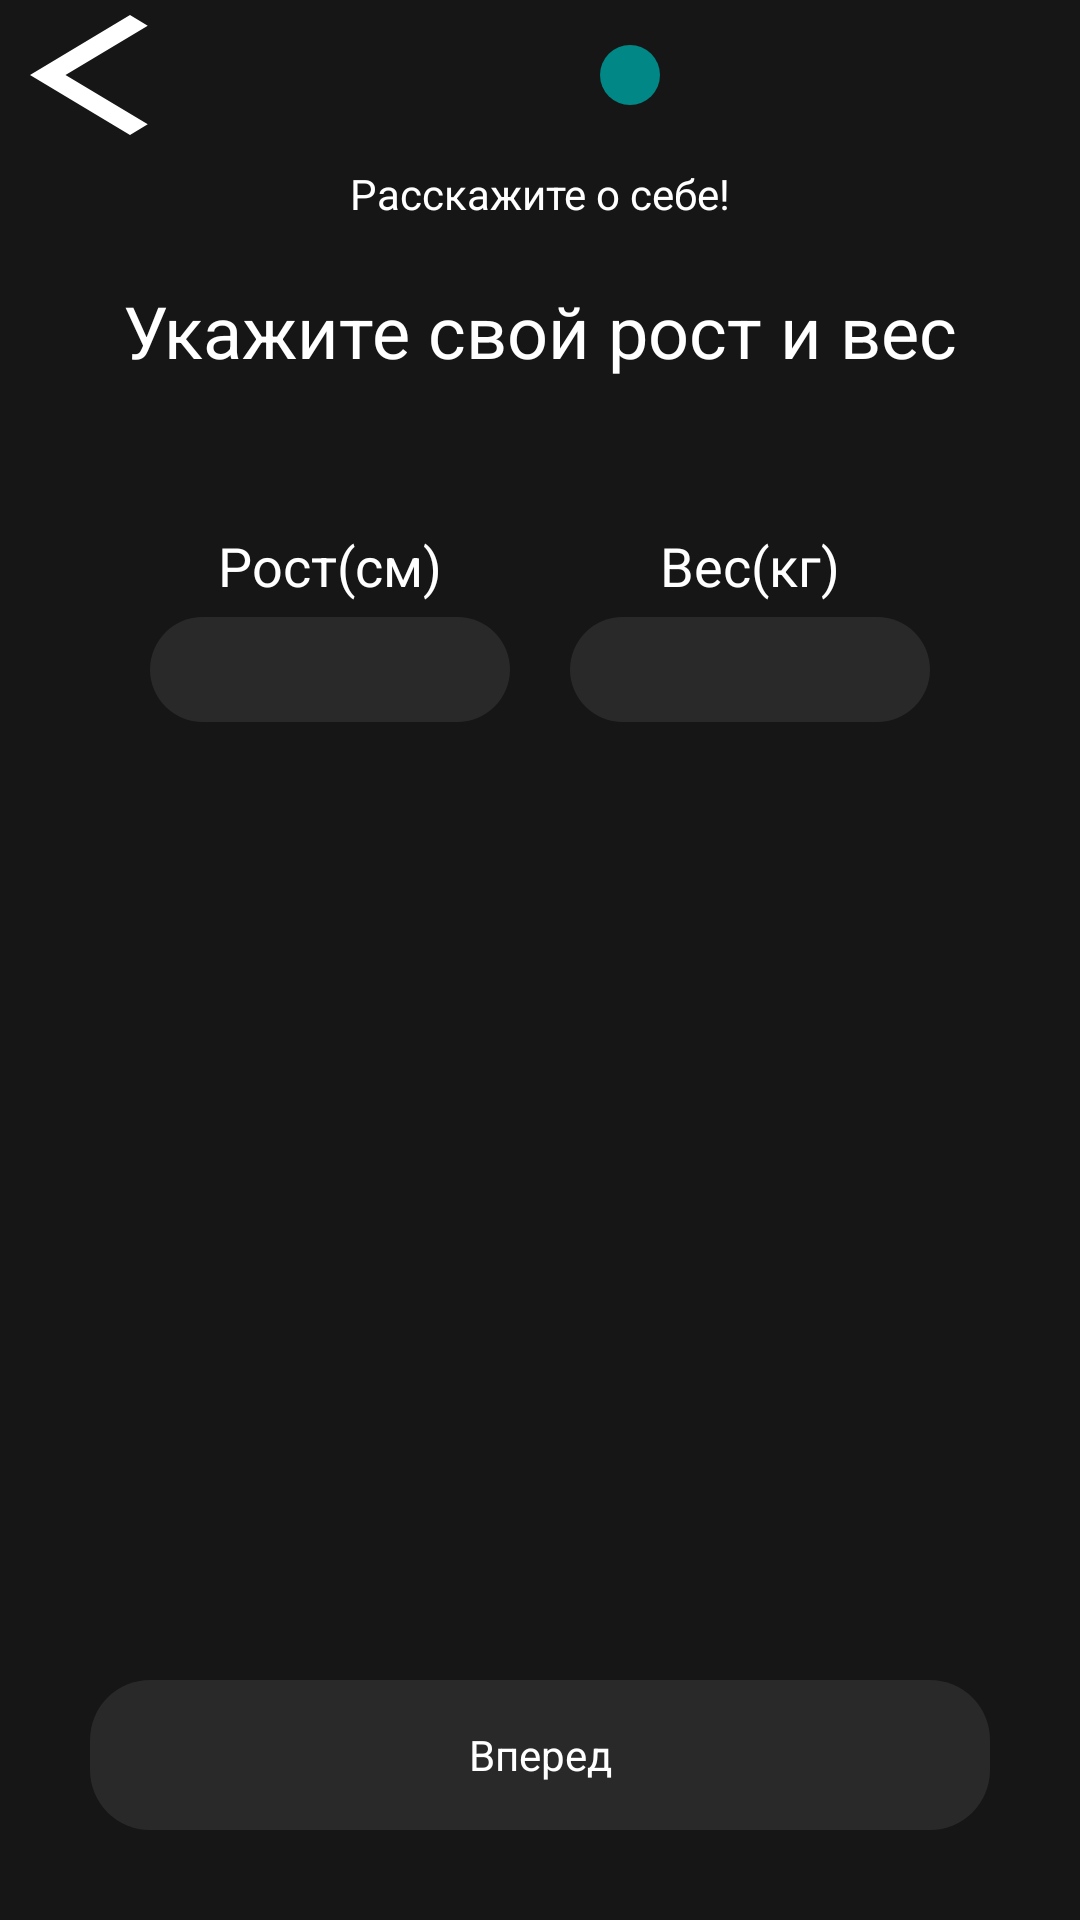

Screen size 1080 x 1920. Icon name, then its box in pixels as (x1, y1, x2, y2):
back: (30, 15, 148, 135)
